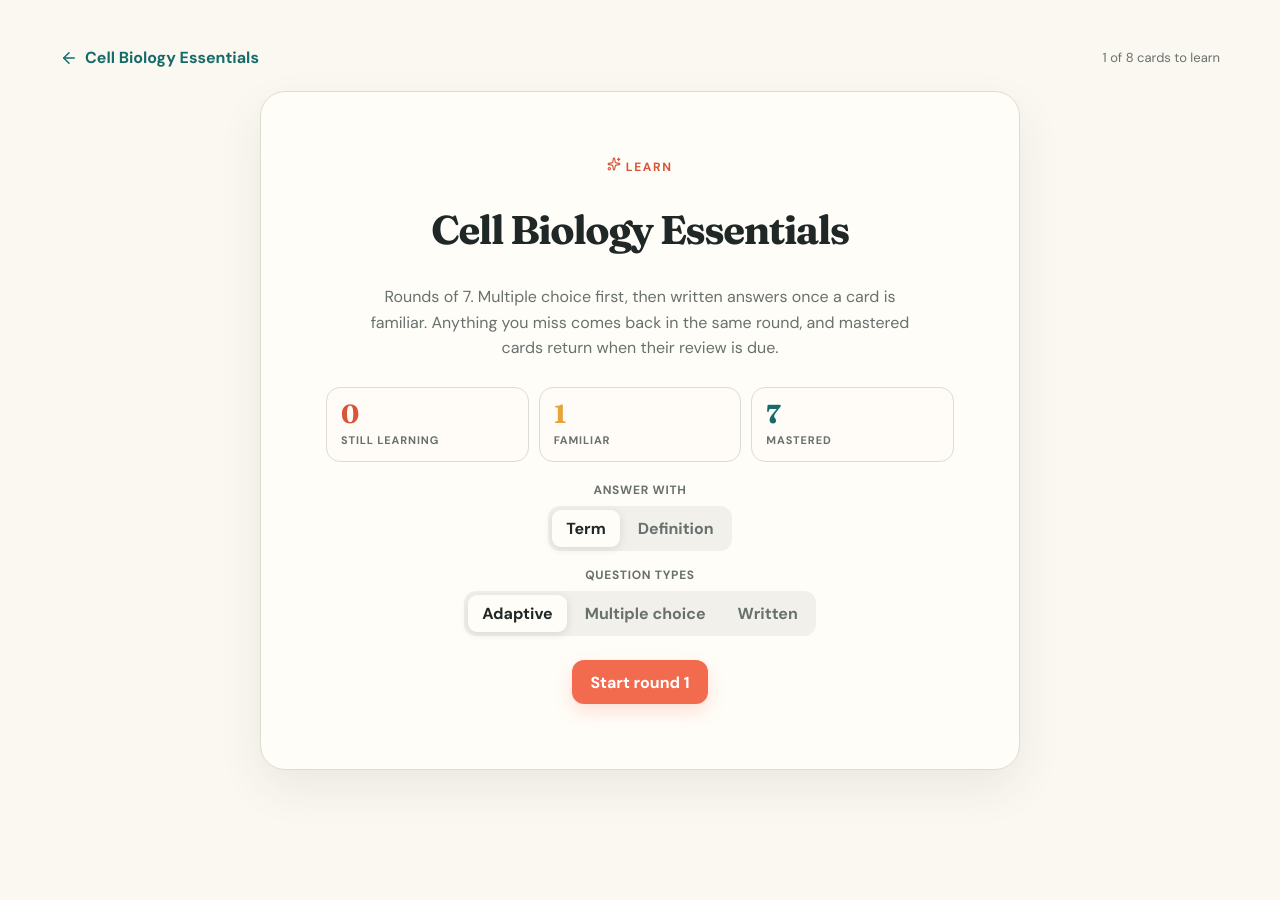
Test: learn mode › lets the learner override a written miss
Click the button "Start round 1": (640, 682) [572,660,708,704]
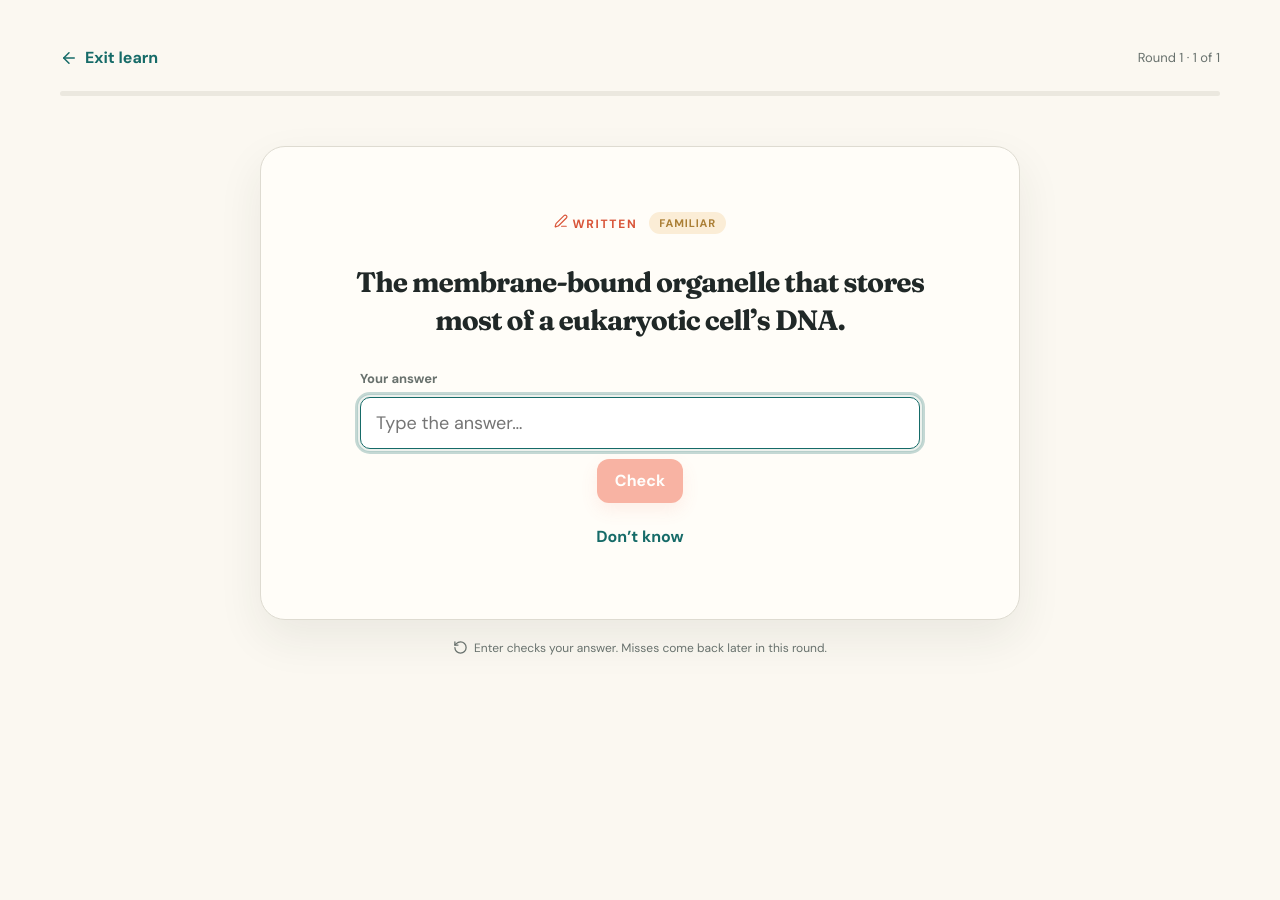
In the field labelled "Your answer": (640, 423) [360,397,920,449], type "the nucleus"
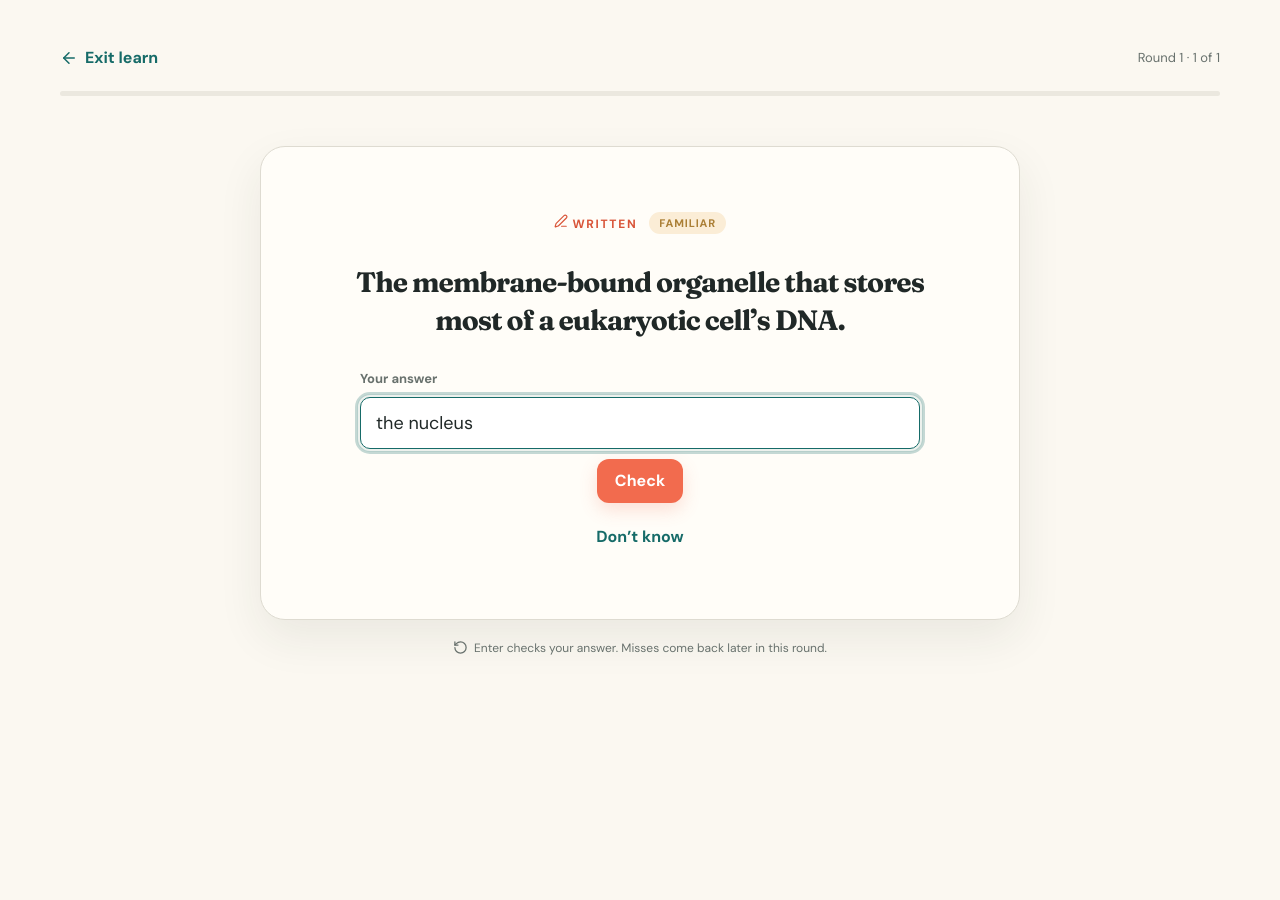
Click the button "Check": (640, 481) [597,459,683,503]
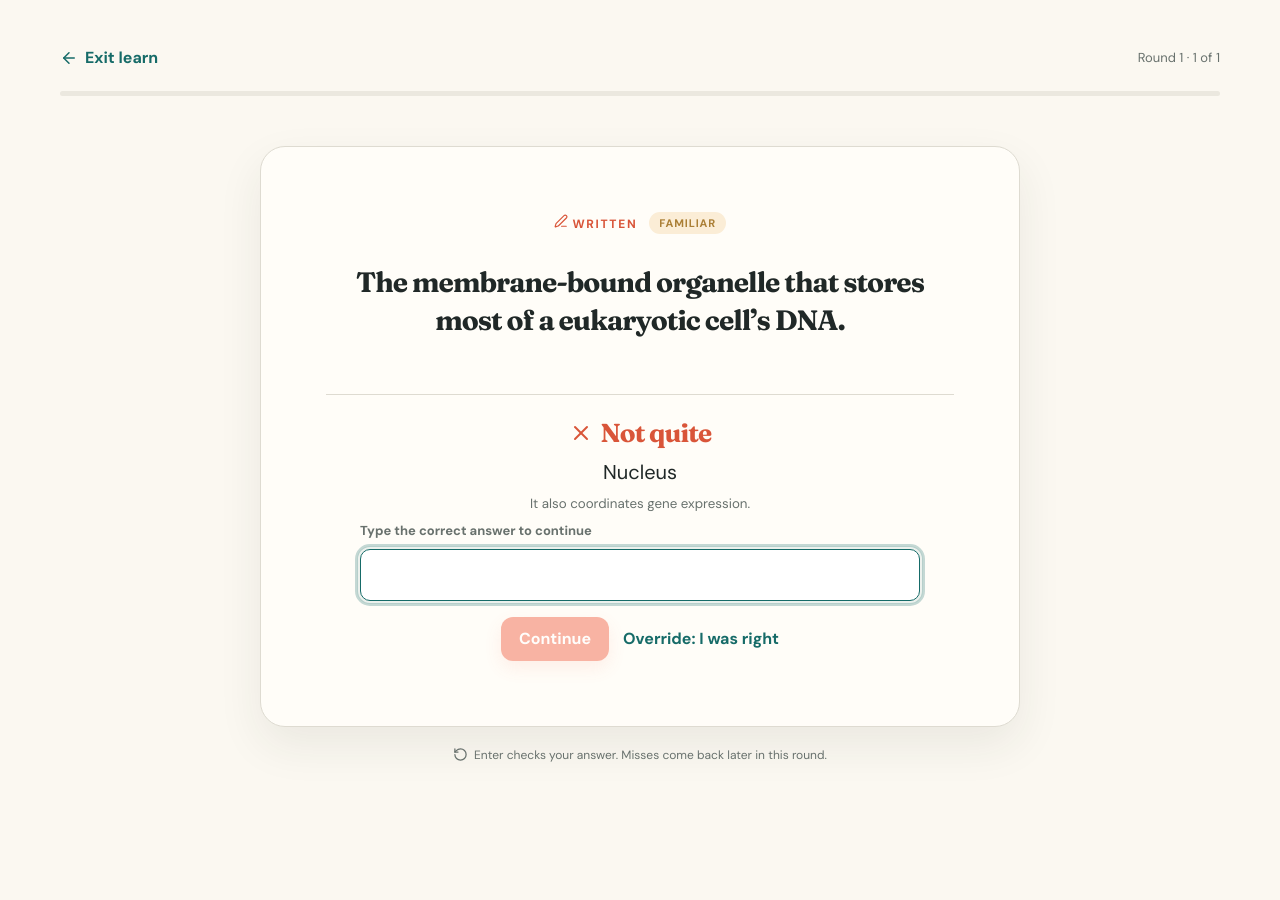
Click the button "Override: I was right": (701, 639) [623,621,779,656]
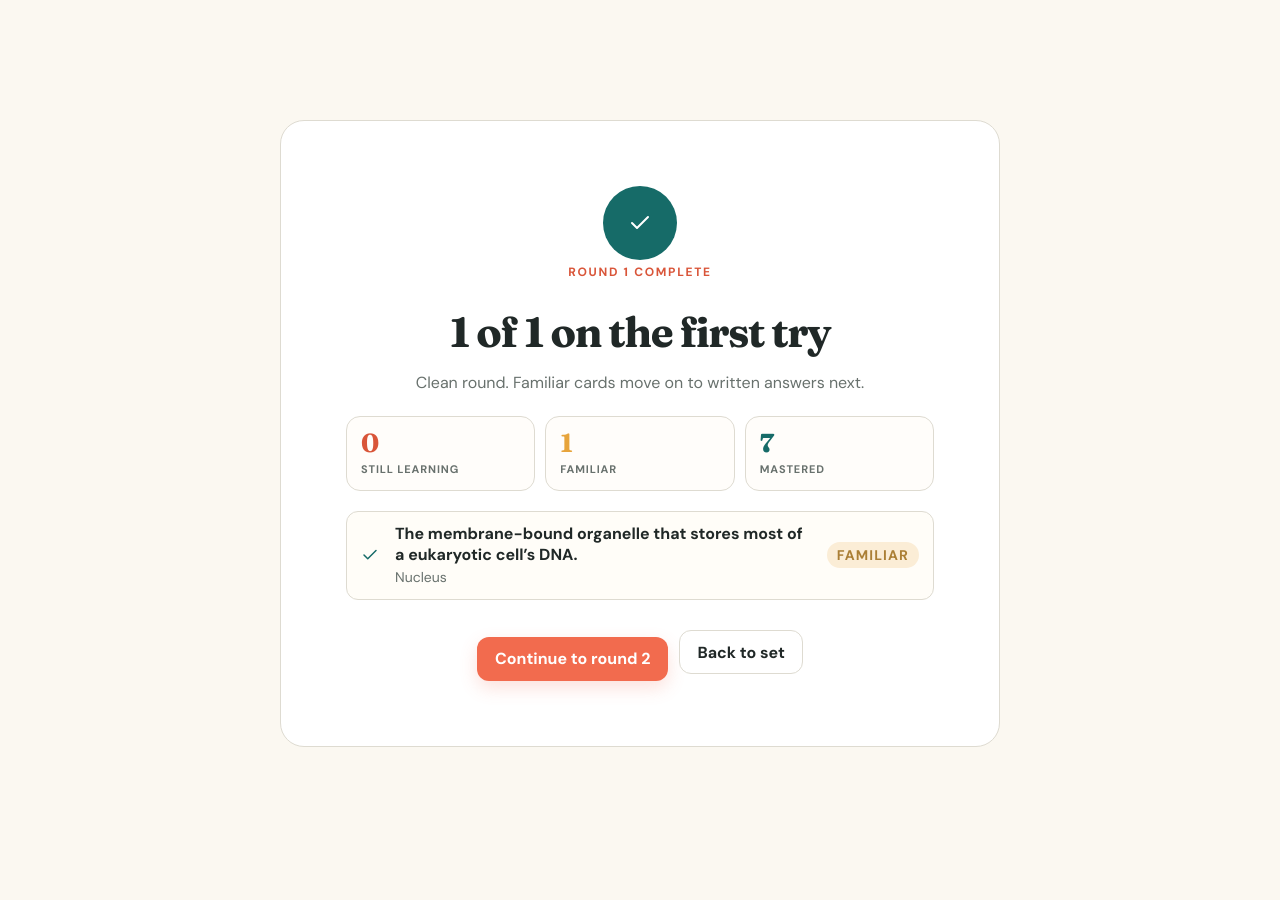
Now the text "Round 1 complete" is shown, box [568,264,712,280]
